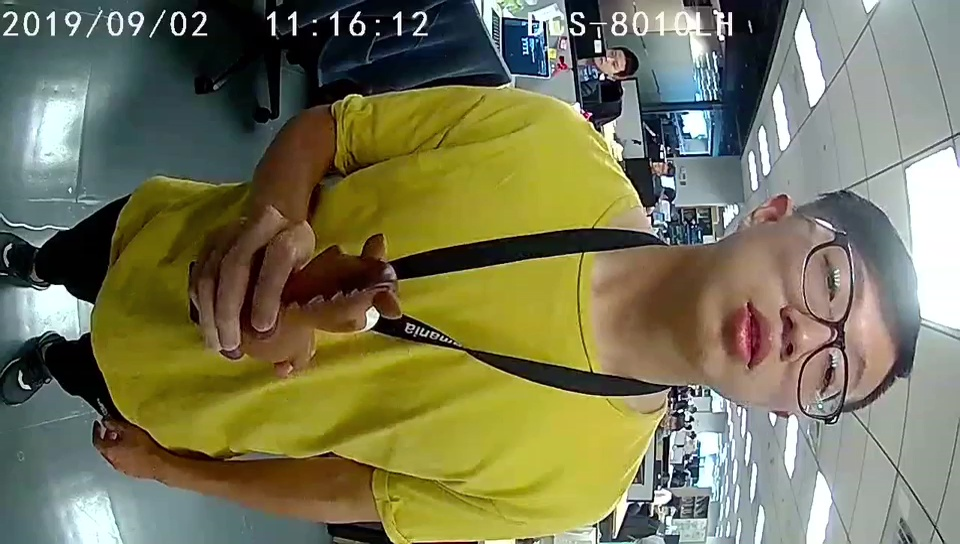horse: (292, 234, 402, 374)
